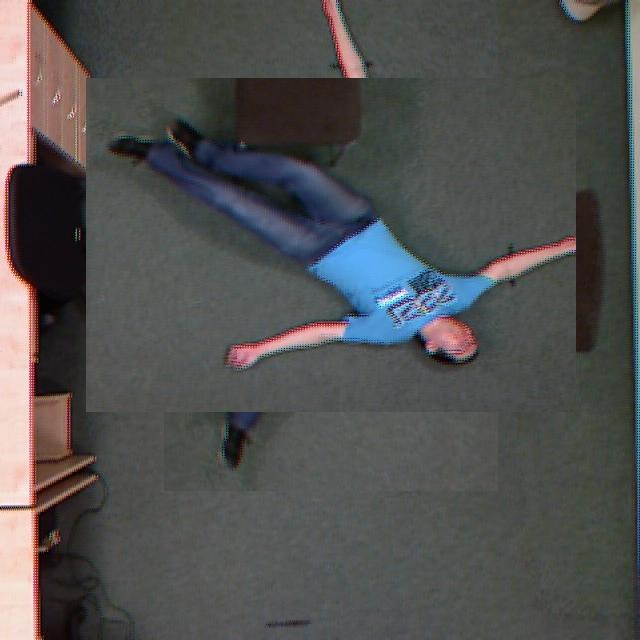Fall: (131, 99, 562, 395)
